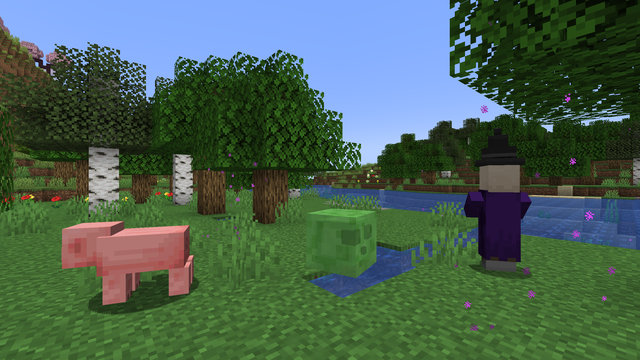cochons: (108, 222, 189, 312)
slimes: (304, 206, 380, 278)
sorcieres: (473, 160, 522, 277)
